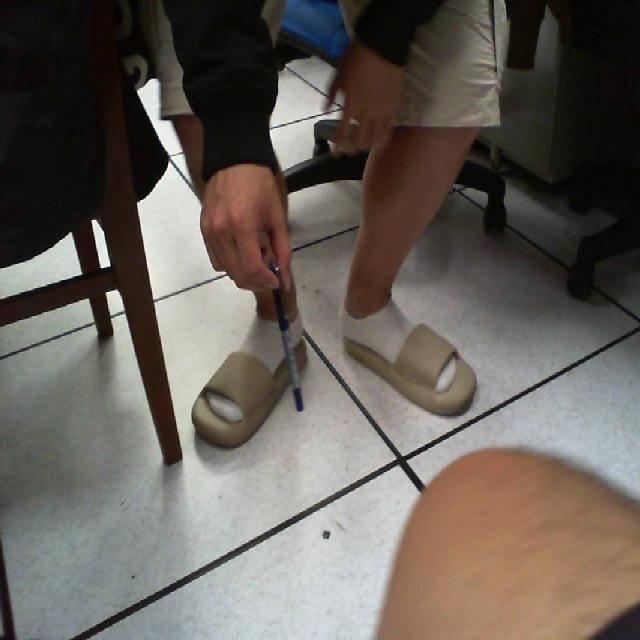Pen: (259, 243, 321, 443)
